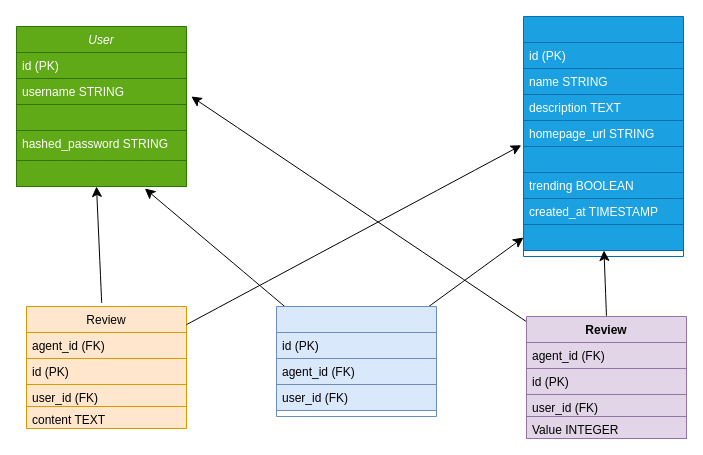
Image size: 703x455. Some labels were removed from this diagram. Each missing label, with the box of its shape:
Agent: (522, 16, 684, 256)
category STRING: (522, 146, 684, 172)
email STRING: (16, 104, 186, 130)
Highlight: (276, 306, 436, 416)
is_admin BOOLEAN: (16, 160, 186, 186)
updated_at TIMESTAMP: (522, 224, 684, 250)
